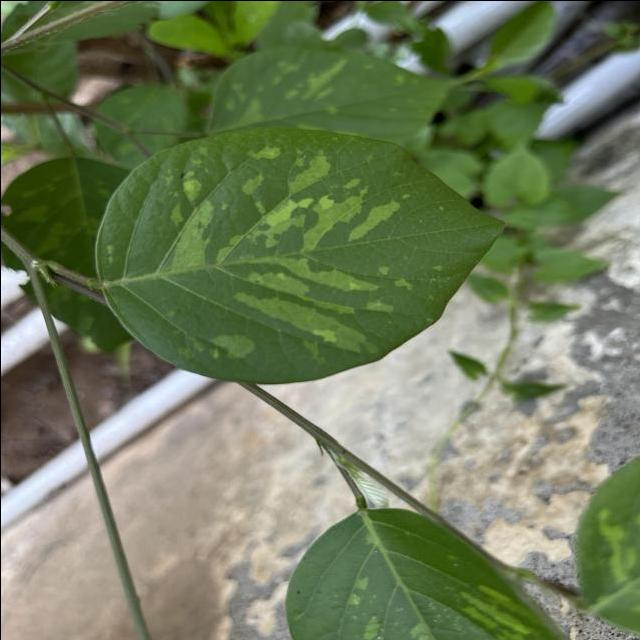Desmodium gangeticum: (91, 123, 509, 388)
